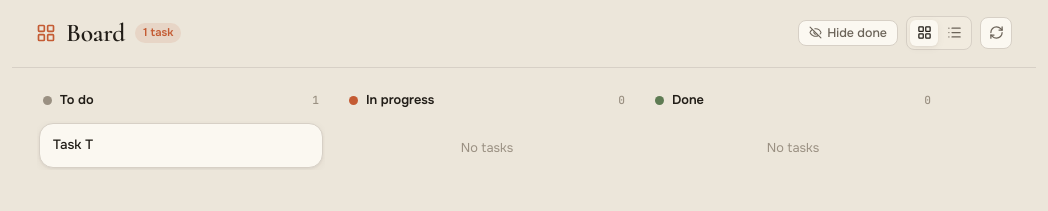
Test case: BoardView — переключатель представления (VIEW-1) › обратно на «Board» восстанавливает канбан
The image size is (1048, 211).
Expected: the text "Task T" is shown, [53, 136, 93, 155]
Click the button named "List": (954, 33) [940, 20, 968, 46]
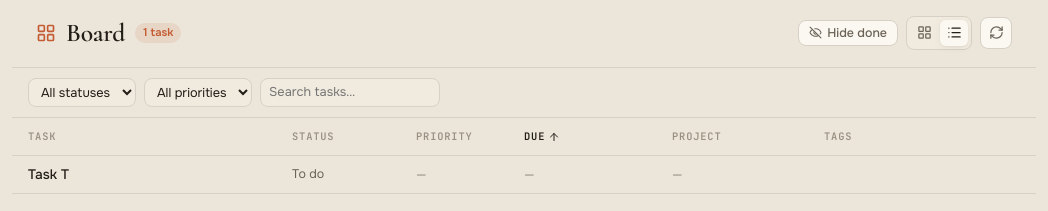
Click the button named "Board": (924, 33) [910, 20, 938, 46]
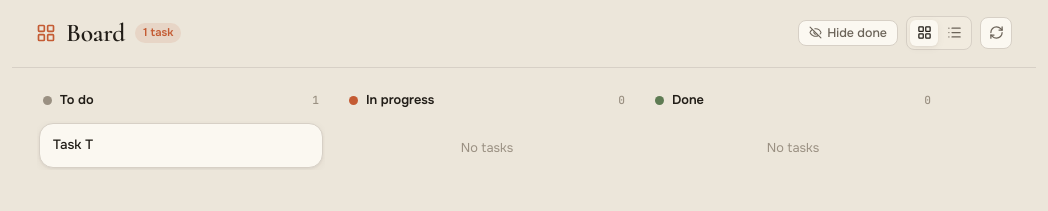
Result: the element "To do 1 Task T" is shown at [36, 86, 326, 171]
